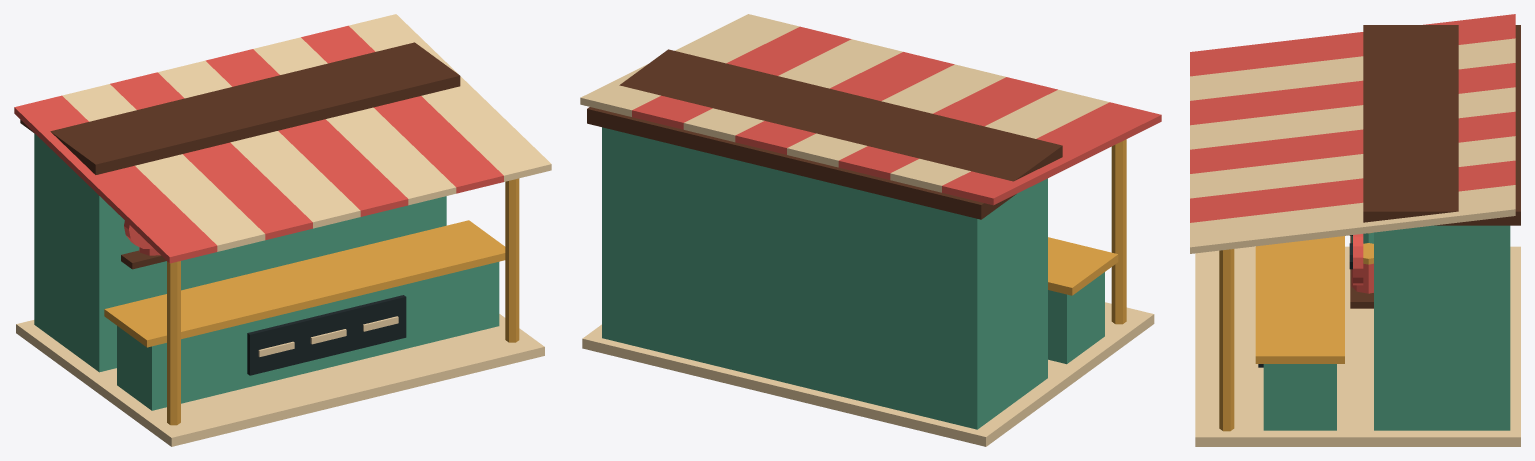
Rendered from ParkParkBoothShooting.obj.
3 renders of one model, left to right at view 1: azimuth 30°, elevation 25°; view 2: azimuth 150°, elevation 25°; view 3: azimuth 270°, elevation 25°, orthographic. The views are drawn at different scales.
Parts seen in each view (by area): view 1: ParkParkBoothShooting; view 2: ParkParkBoothShooting; view 3: ParkParkBoothShooting.
Boxes of the visible parts, x1,y1,x2,y2 form: ParkParkBoothShooting: (14,14,551,446); ParkParkBoothShooting: (580,14,1161,446); ParkParkBoothShooting: (1190,14,1520,446).
Size of the model in its own units: 8.8 by 5.04 by 6.3.
